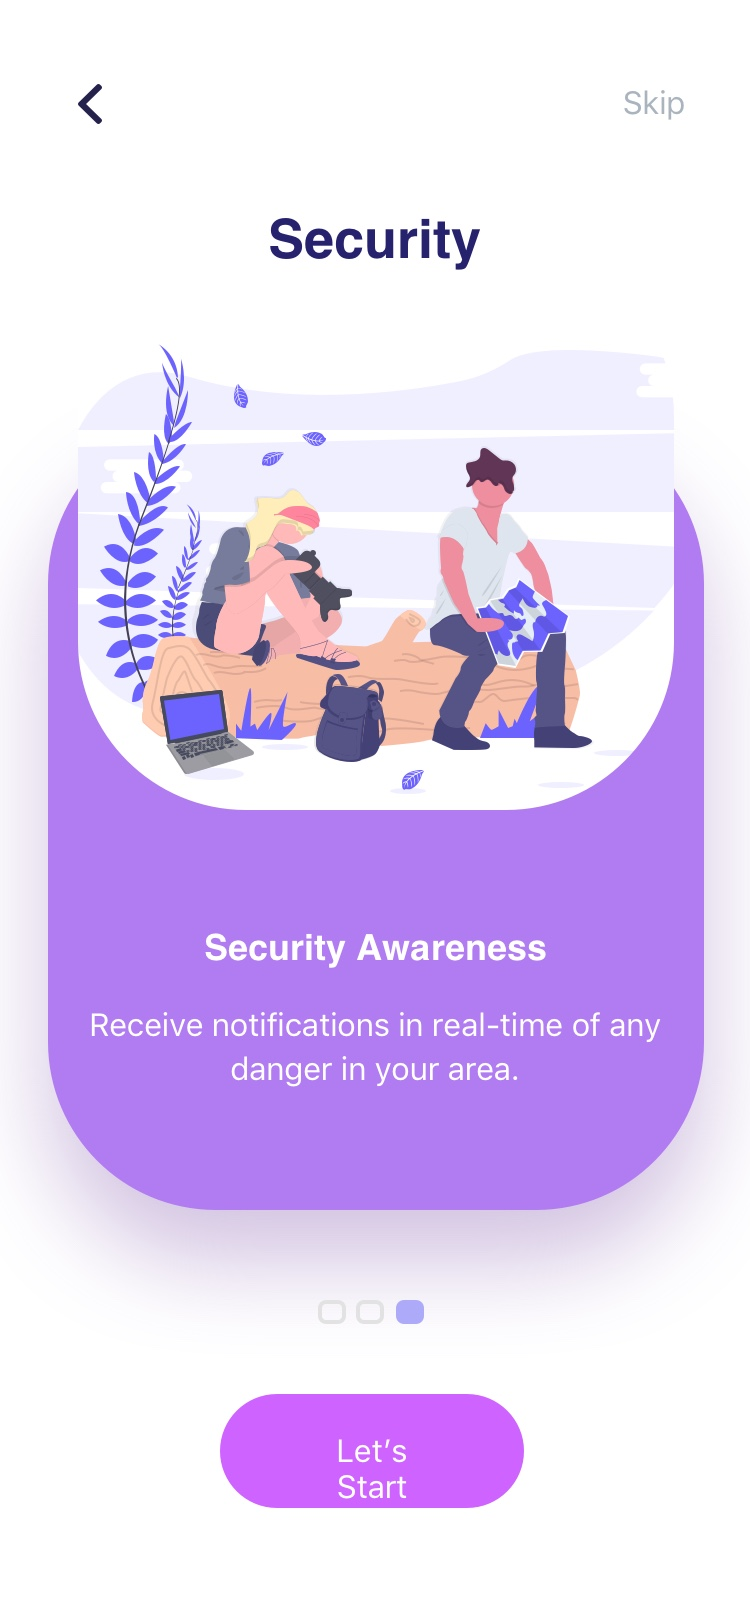Icon: (78, 84, 104, 126)
Image: (79, 345, 675, 796)
PageIndicator: (317, 1299, 426, 1326)
Text: (92, 1011, 661, 1087), (205, 932, 547, 969), (270, 218, 481, 271), (624, 90, 685, 123)
TextButton: (220, 1394, 525, 1508)
